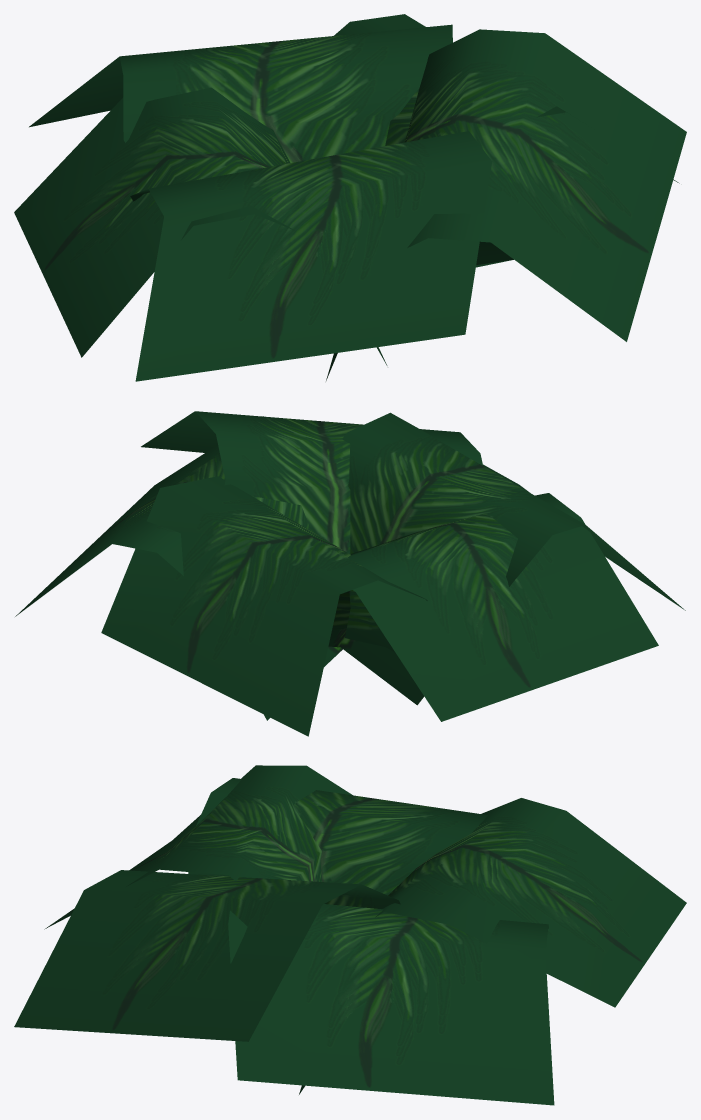
File: Palm_Dark.FBX
3 views of the same model, one above another, from view 1: azimuth 30°, elevation 25°; view 2: azimuth 150°, elevation 25°; view 3: azimuth 270°, elevation 25° (orthographic). The views are drawn at different scales.
Parts seen in each view (by area): view 1: Plane095; view 2: Plane095; view 3: Plane095.
Boxes of the visible parts, left/top/right/bottom form: Plane095: left=14, top=14, right=686, bottom=381; Plane095: left=15, top=411, right=685, bottom=736; Plane095: left=14, top=765, right=686, bottom=1105.
Size of the model in its own units: 154 by 60.75 by 158.
1 material, 1 textured.
